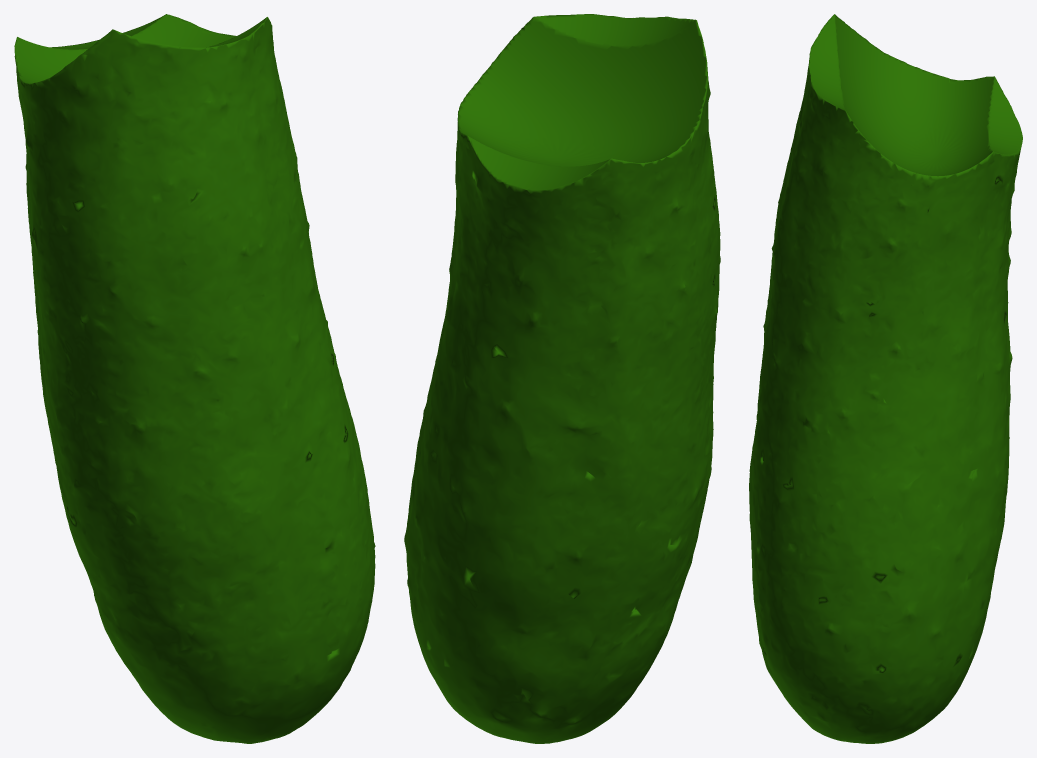
Rendered from NewGurkisT2.fbx.
The picture shows the model from 3 angles, left to right: view 1: azimuth 30°, elevation 25°; view 2: azimuth 150°, elevation 25°; view 3: azimuth 270°, elevation 25°; orthographic projection. The views are drawn at different scales.
Visible parts, largest first — view 1: Stereo textured mesh; view 2: Stereo textured mesh; view 3: Stereo textured mesh.
Boxes of the visible parts, x1,y1,x2,y2 form: Stereo textured mesh: (14,14,375,743); Stereo textured mesh: (404,14,720,743); Stereo textured mesh: (749,14,1022,743).
Bounding box in the file's own units: 31.97 × 75.01 × 28.74.
